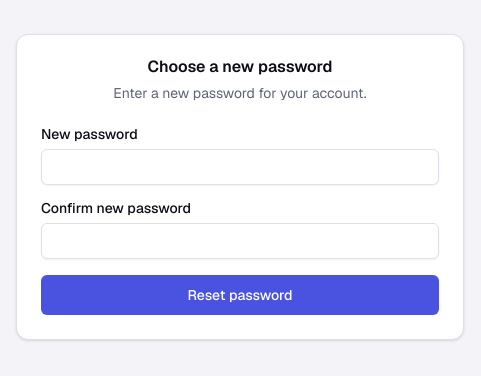
ResetPasswordPage › rejects a short password without calling the API
Type "short" into the password field labelled "New password" at (240, 167), box x1=41 y1=149 x2=439 y2=185
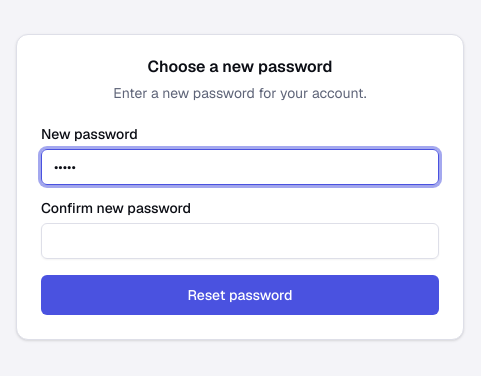
Type "short" into the password field labelled "Confirm new password" at (240, 241), box x1=41 y1=223 x2=439 y2=259
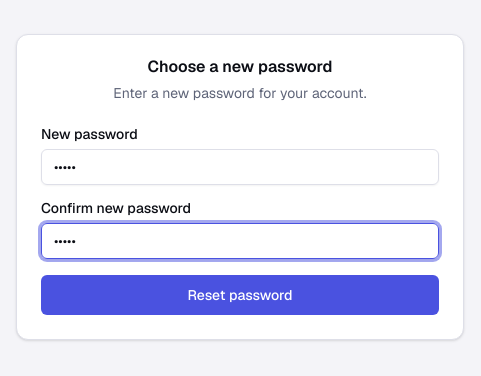
Click the button "Reset password" at (240, 295), box x1=41 y1=275 x2=439 y2=315
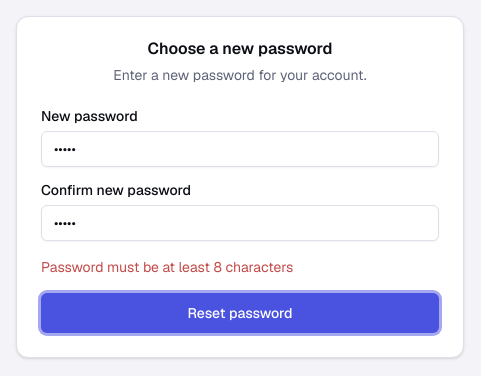
Result: the text "Password must be at least 8 characters" is shown at x1=41 y1=258 x2=293 y2=276
